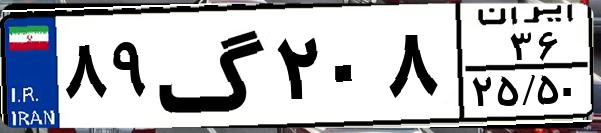0: (330, 28, 385, 110), (560, 70, 590, 125)
2: (270, 28, 330, 110), (470, 70, 495, 125)
3: (508, 27, 537, 80)
5: (495, 70, 520, 125), (535, 70, 560, 125)
6: (537, 27, 568, 80)
8: (385, 28, 445, 110), (57, 26, 110, 100)
9: (110, 28, 156, 98)
گ: (156, 12, 270, 120)
